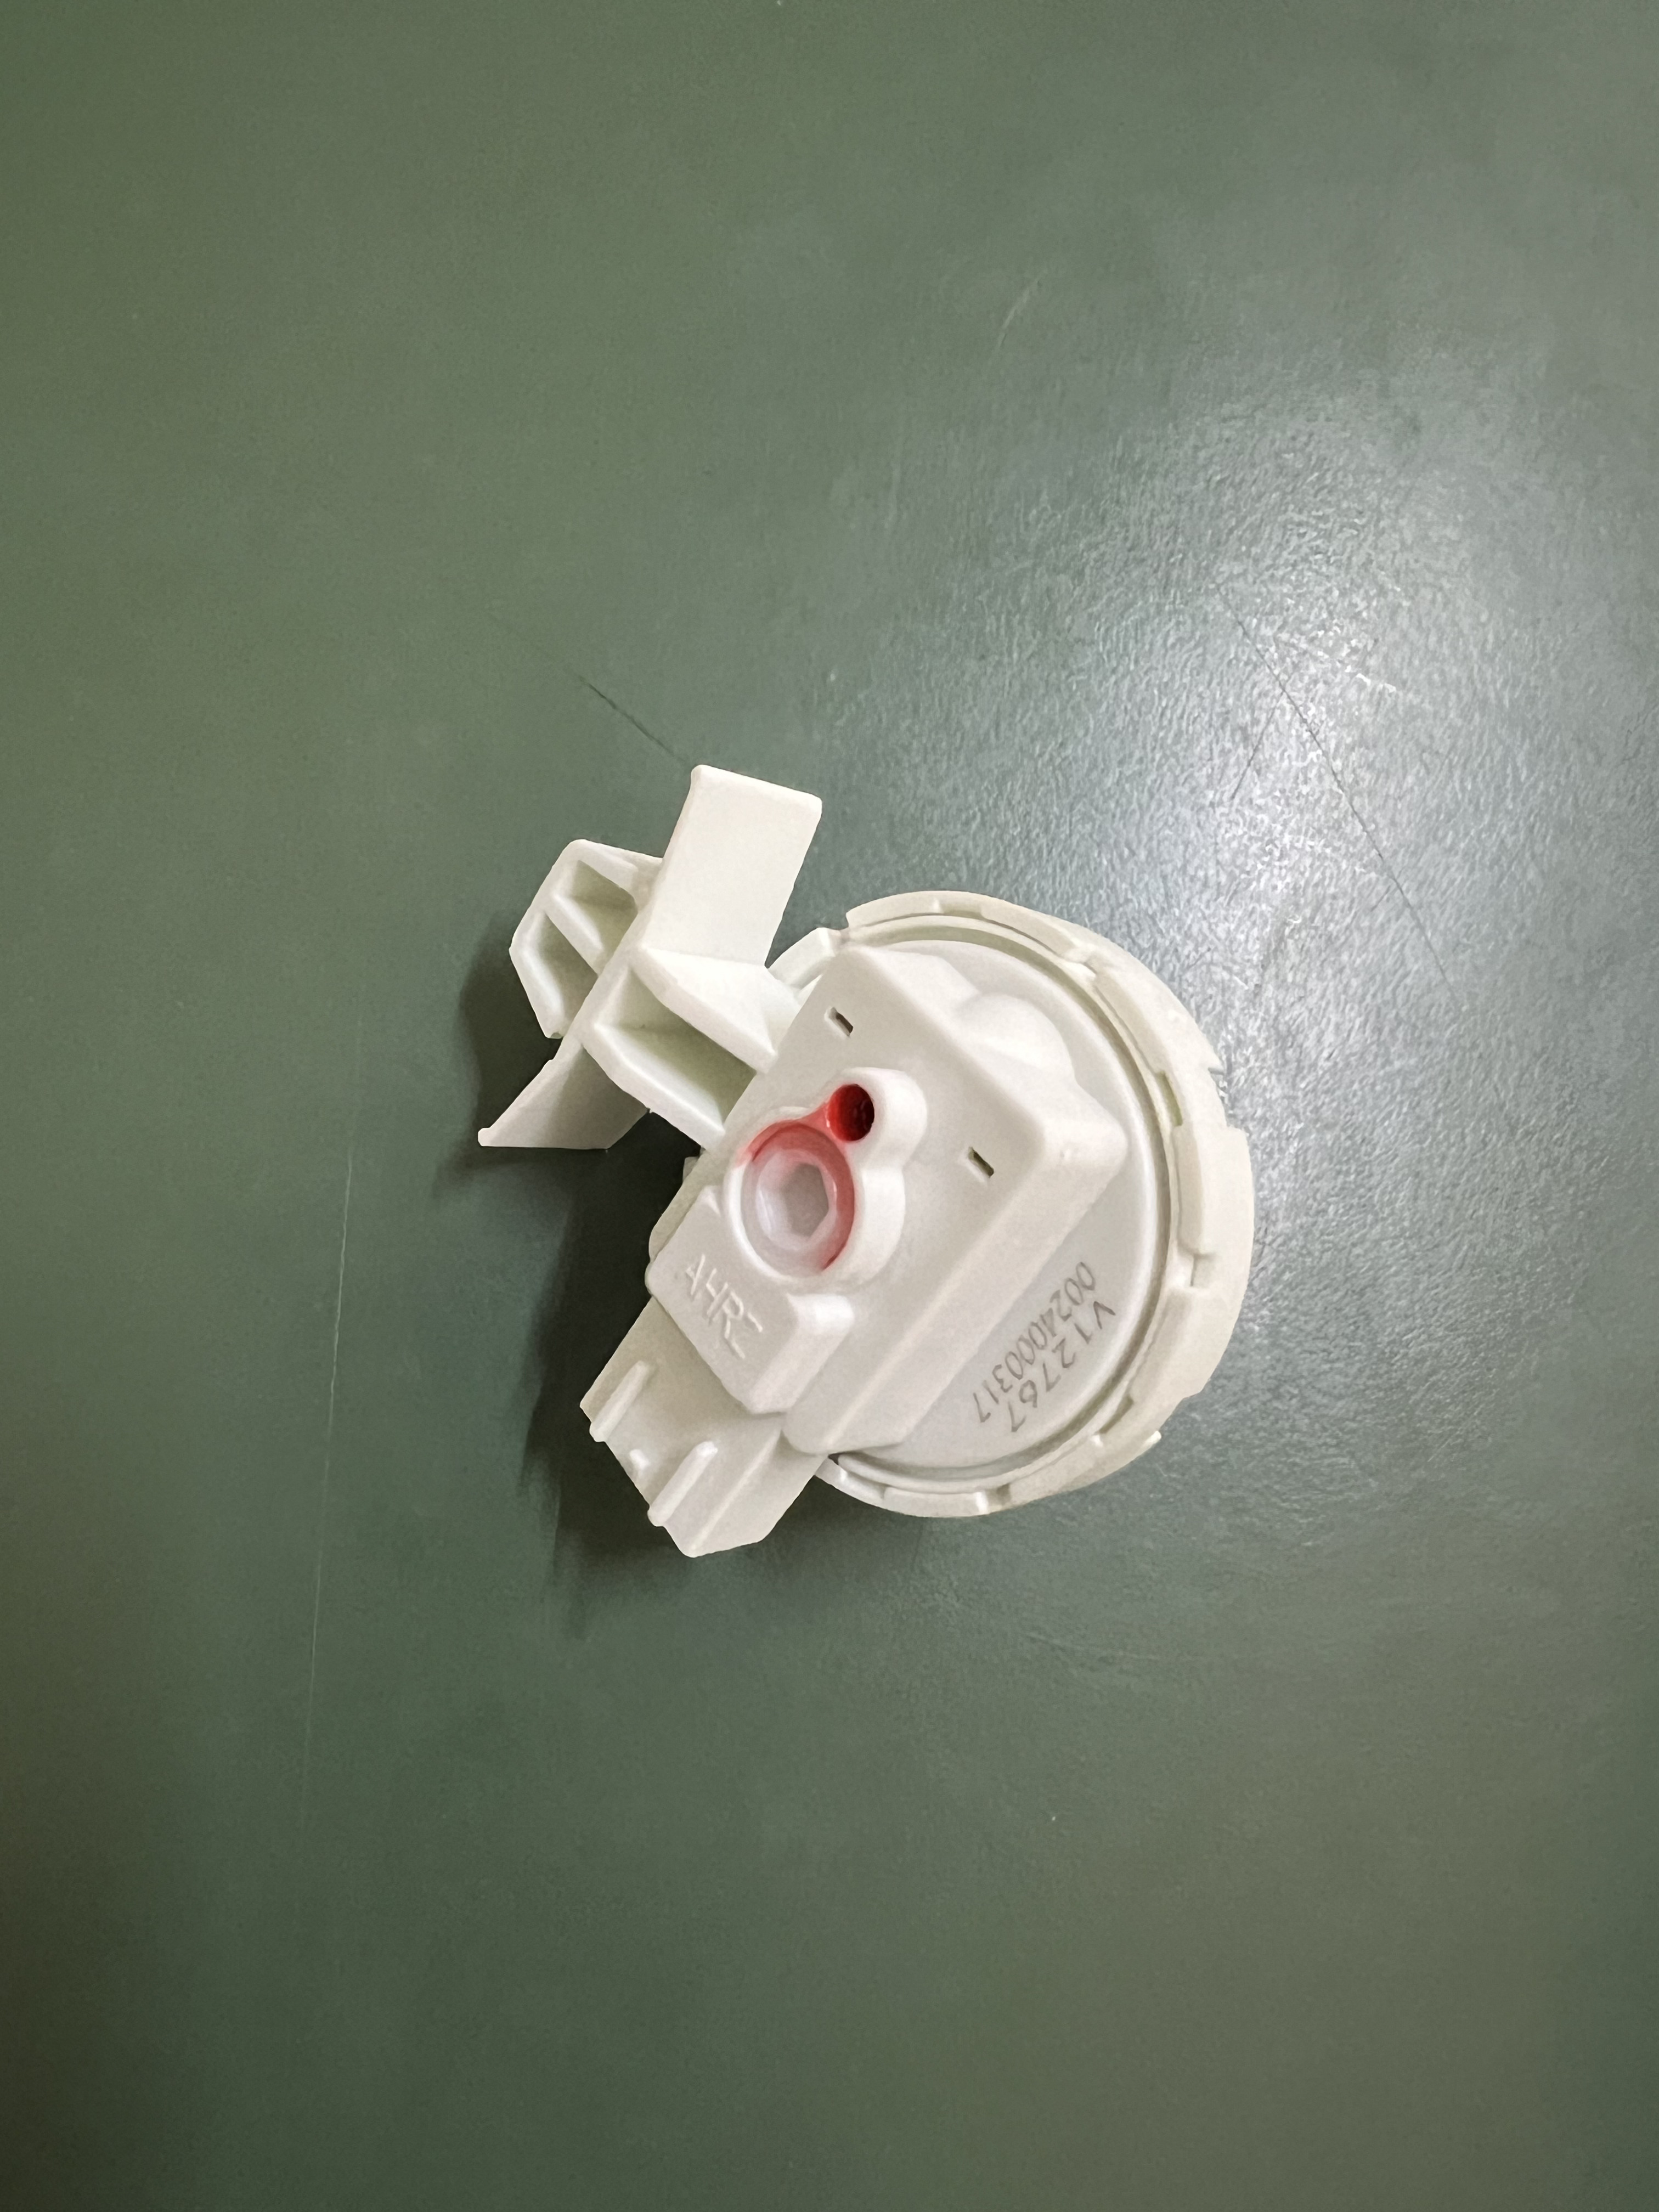pressure_switch_2: (425, 758, 1263, 1564)
